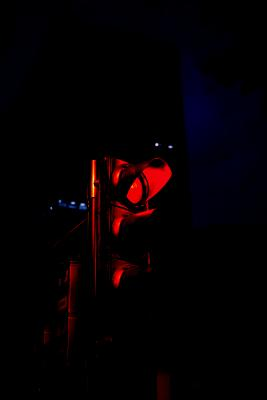International Road Signal Light: (98, 155, 172, 293)
